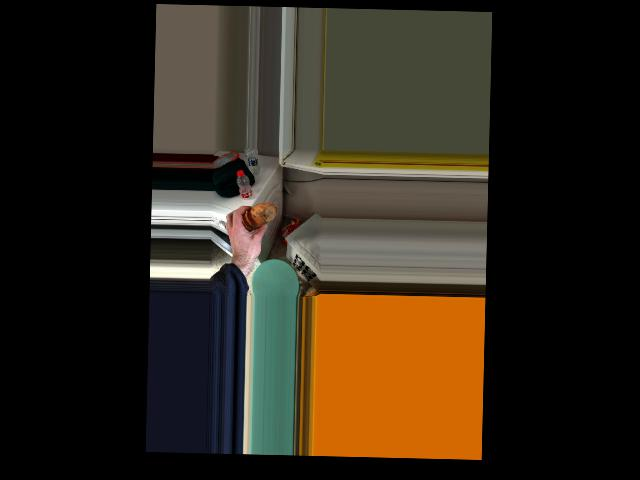sweet_potato: (240, 200, 271, 231)
